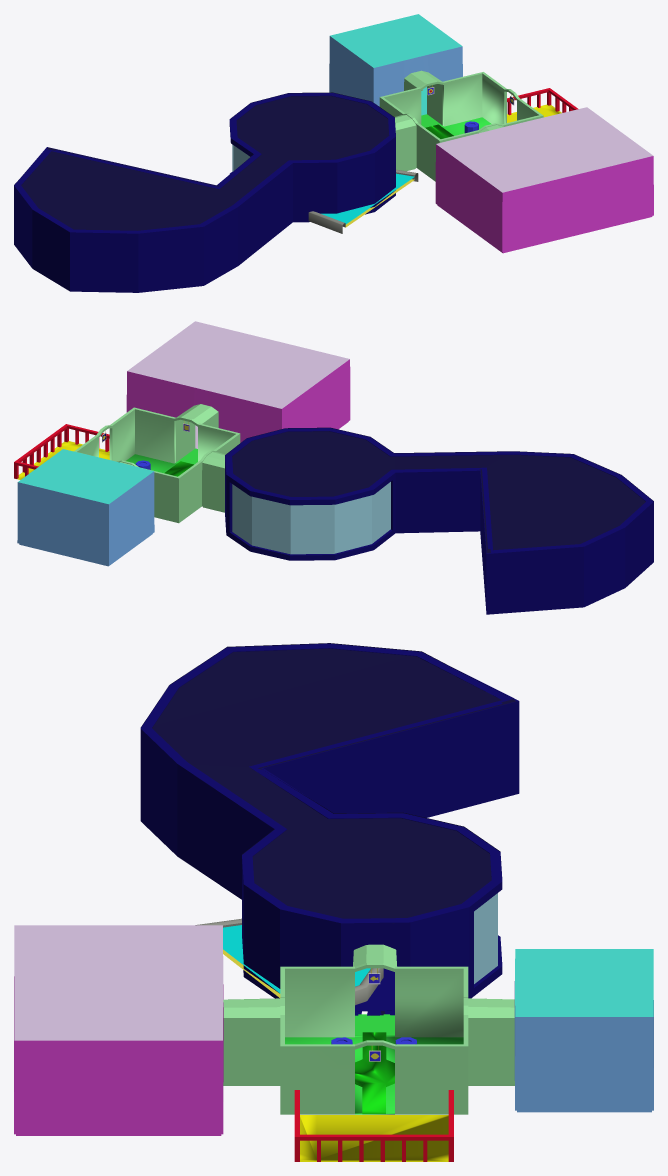
File: VRProject_ver3.fbx
3 views of the same model, one above another, from view 1: azimuth 30°, elevation 25°; view 2: azimuth 150°, elevation 25°; view 3: azimuth 270°, elevation 25° (orthographic). The views are drawn at different scales.
Parts seen in each view (by area): view 1: VR_Map; view 2: VR_Map; view 3: VR_Map.
Part boxes in pixels (x1,y1,x2,y2): VR_Map: [14, 14, 653, 292]; VR_Map: [14, 321, 653, 614]; VR_Map: [14, 643, 653, 1161].
Bounding box in the file's own units: 8857 × 934 × 5628.
